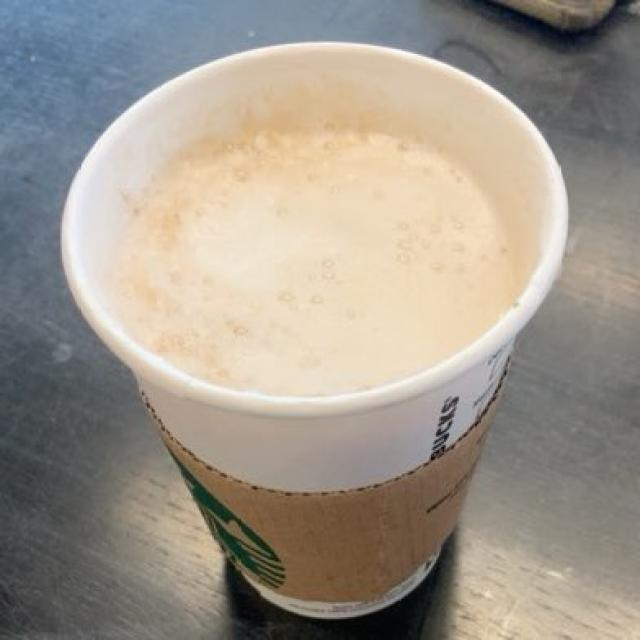cappuccino: (113, 125, 513, 385)
